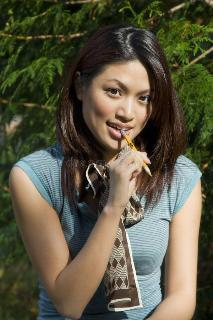person - v3 P: (10, 24, 201, 319)
